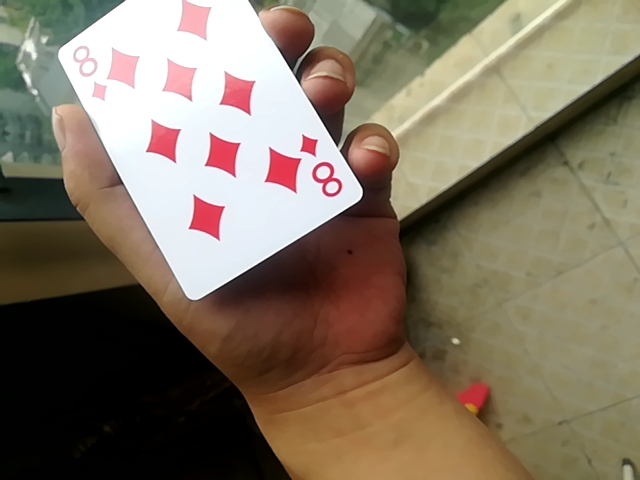fk 8: (50, 2, 358, 312)
